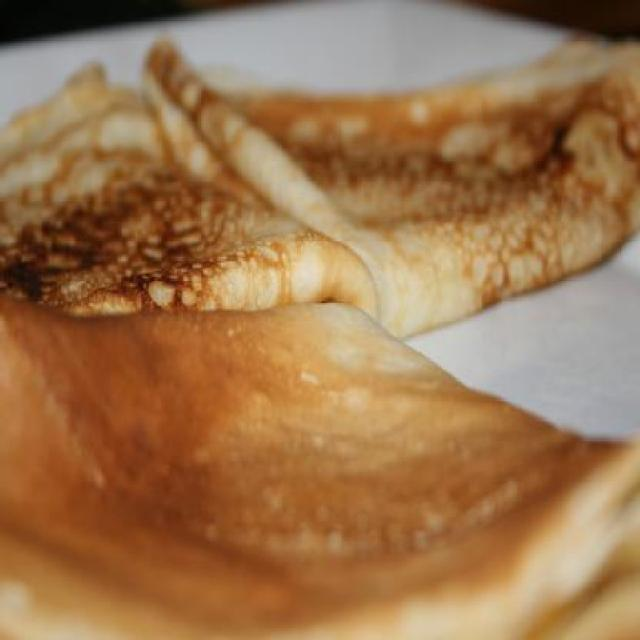Pancake: (0, 39, 638, 638)
